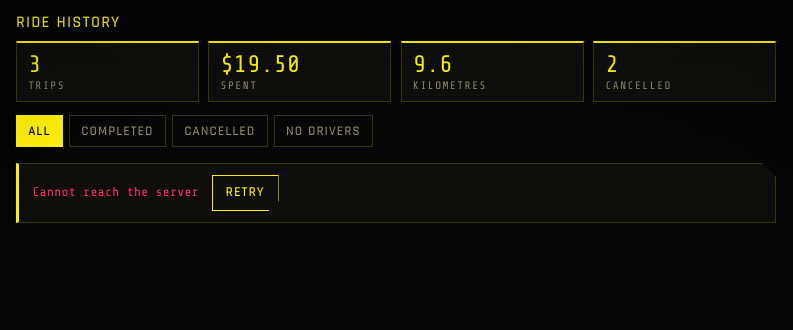
HistoryPage › surfaces load errors and can retry
The image size is (793, 330).
Check: the text "Cannot reach the server" is shown, box [33,186,199,200]
Click the button "Retry": coordinates (245, 193) [212,175,278,211]
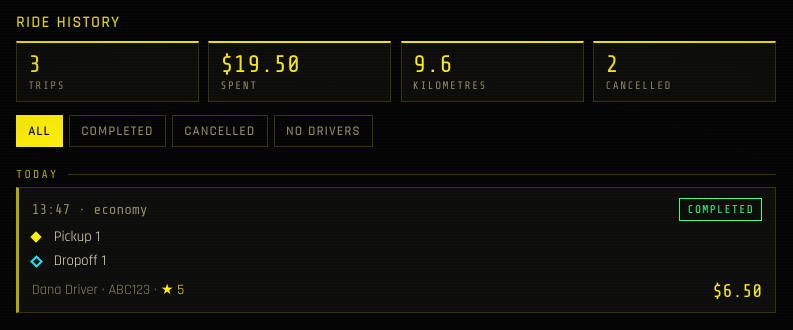
Check: the text "Pickup 1" is shown, box [54,227,100,246]
